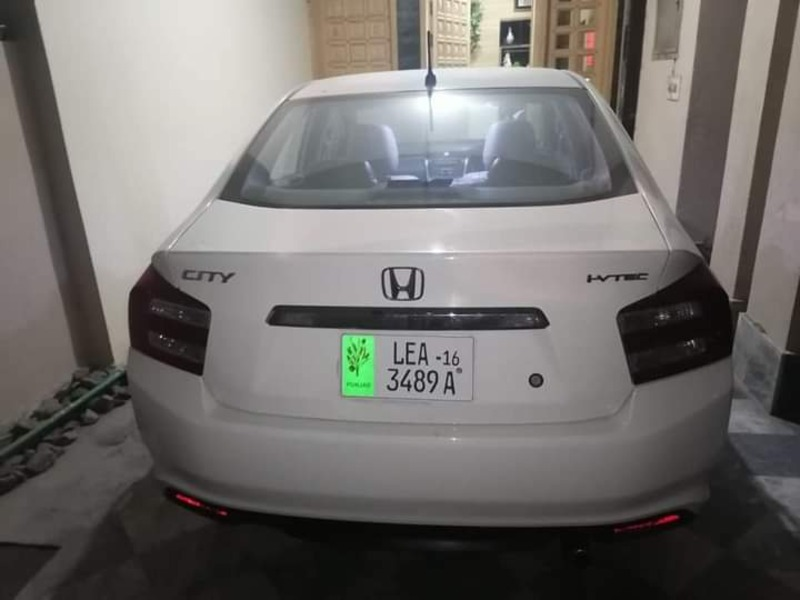License Plate: (337, 328, 477, 408)
